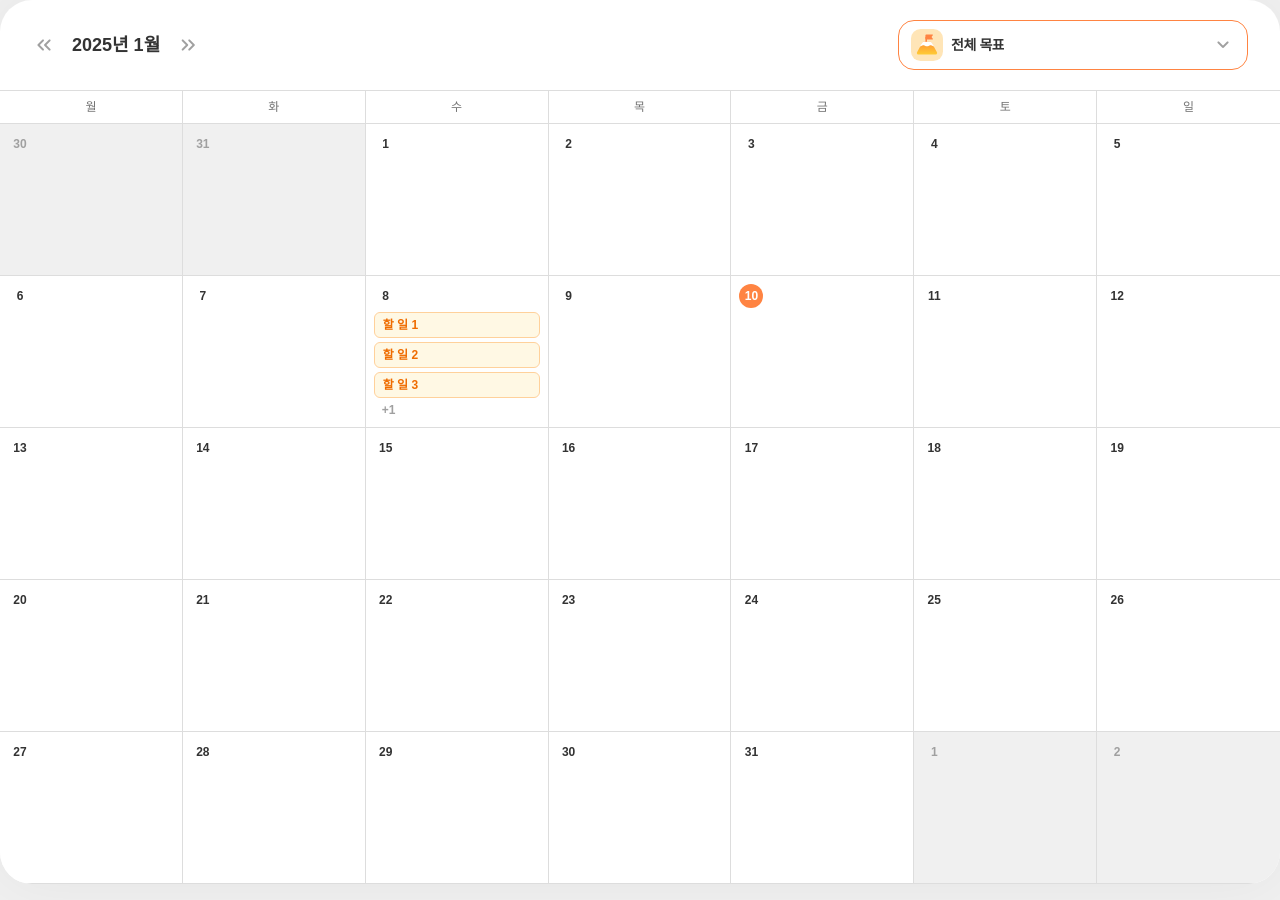
CalendarView › 목표를 불러오지 못하면 에러를 표시하고 다시 열면 재요청한다
Click the button "전체 목표" at (927, 45), box [898, 20, 1248, 70]
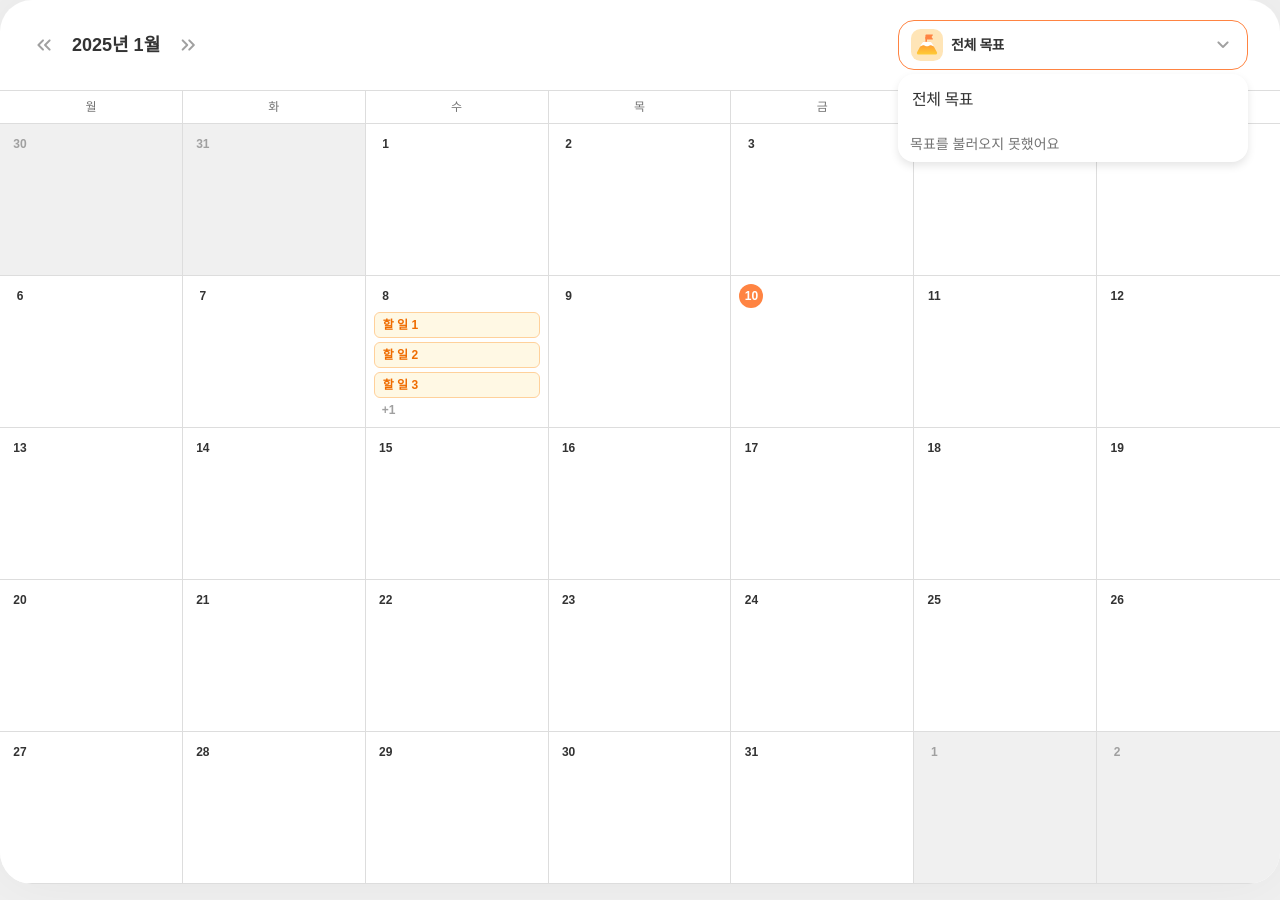
Result: the message reads "목표를 불러오지 못했어요" at [910, 136, 1060, 152]
Result: the menu item "전체 목표" is shown at [912, 91, 973, 108]
Press Escape
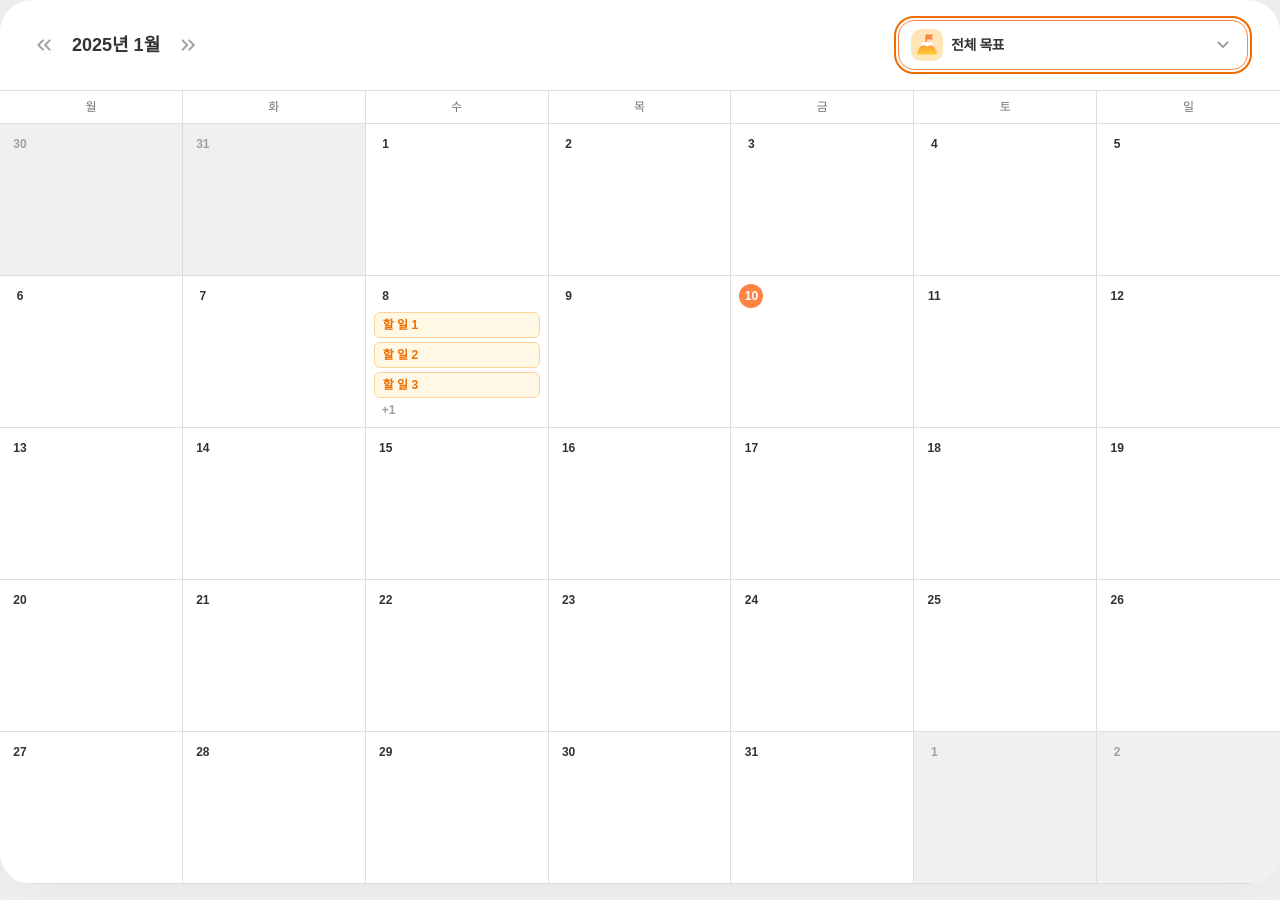
Click the button "전체 목표" at (927, 45), box [898, 20, 1248, 70]
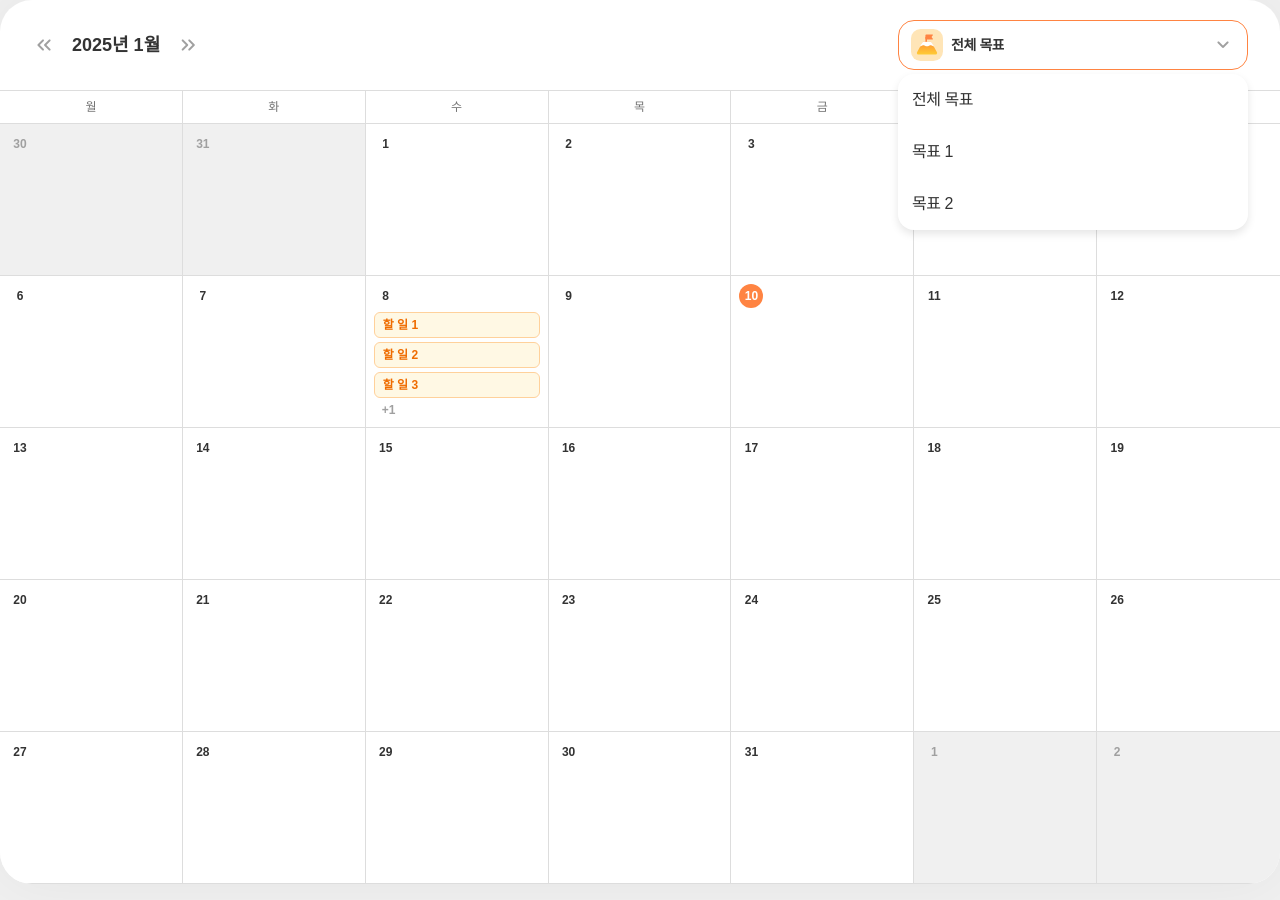
Result: the menu item "목표 2" is shown at [912, 195, 953, 212]
